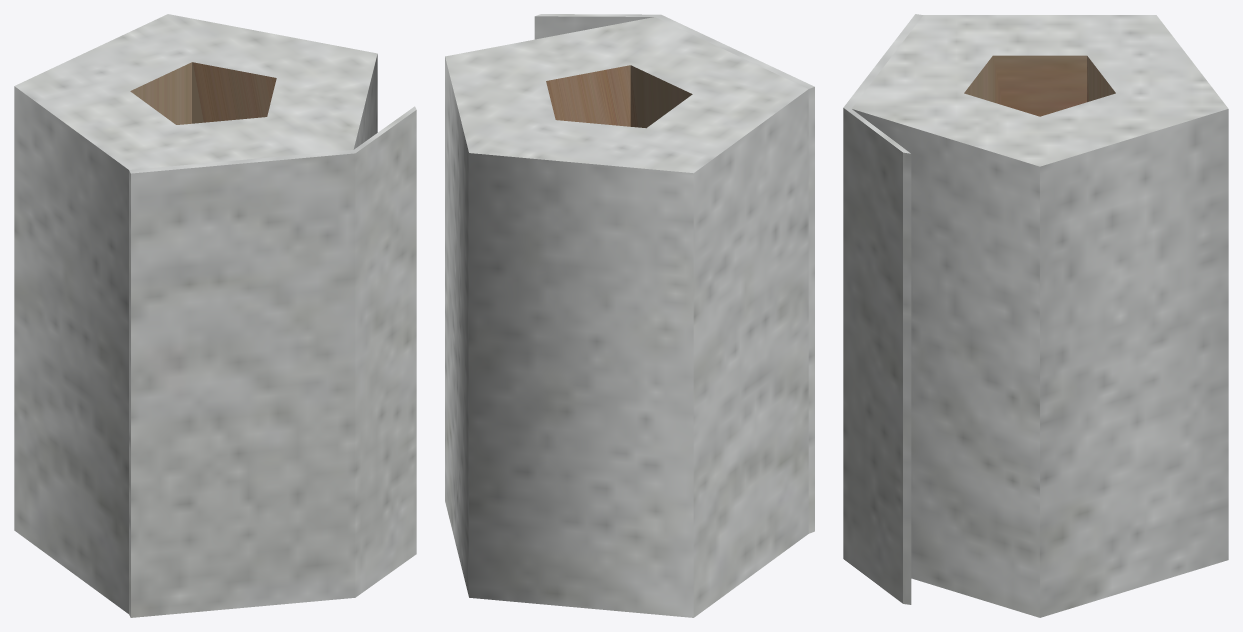
The model's file is paper roll used.FBX.
3 views of the same model, side by side, from view 1: azimuth 30°, elevation 25°; view 2: azimuth 150°, elevation 25°; view 3: azimuth 270°, elevation 25° (orthographic).
Visible parts, largest first — view 1: Cylinder001, Object001; view 2: Cylinder001, Object001; view 3: Cylinder001, Object001.
Boxes of the visible parts, x1,y1,x2,y2 form: Cylinder001: (14, 14, 416, 617); Object001: (130, 62, 276, 124); Cylinder001: (445, 14, 814, 617); Object001: (546, 65, 692, 128); Cylinder001: (843, 14, 1228, 617); Object001: (964, 55, 1115, 116).
Size of the model in its own units: 9.48 by 13.06 by 10.11.
Materials: 2 (2 with a texture image).
